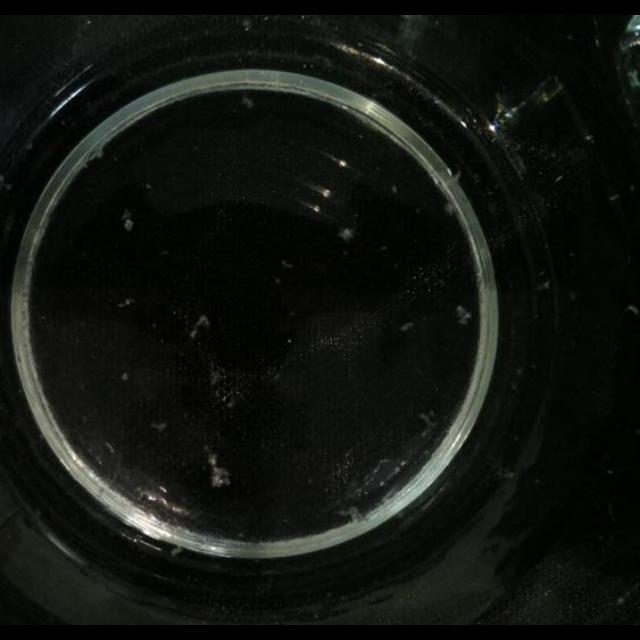Fibre: (204, 450, 232, 488), (189, 314, 211, 340), (418, 410, 438, 430), (454, 305, 472, 325), (208, 369, 226, 389), (121, 210, 135, 232), (338, 226, 354, 242), (118, 297, 136, 309), (150, 421, 166, 433), (240, 95, 253, 109), (399, 321, 415, 332)
microbeads: (626, 305, 638, 317)
